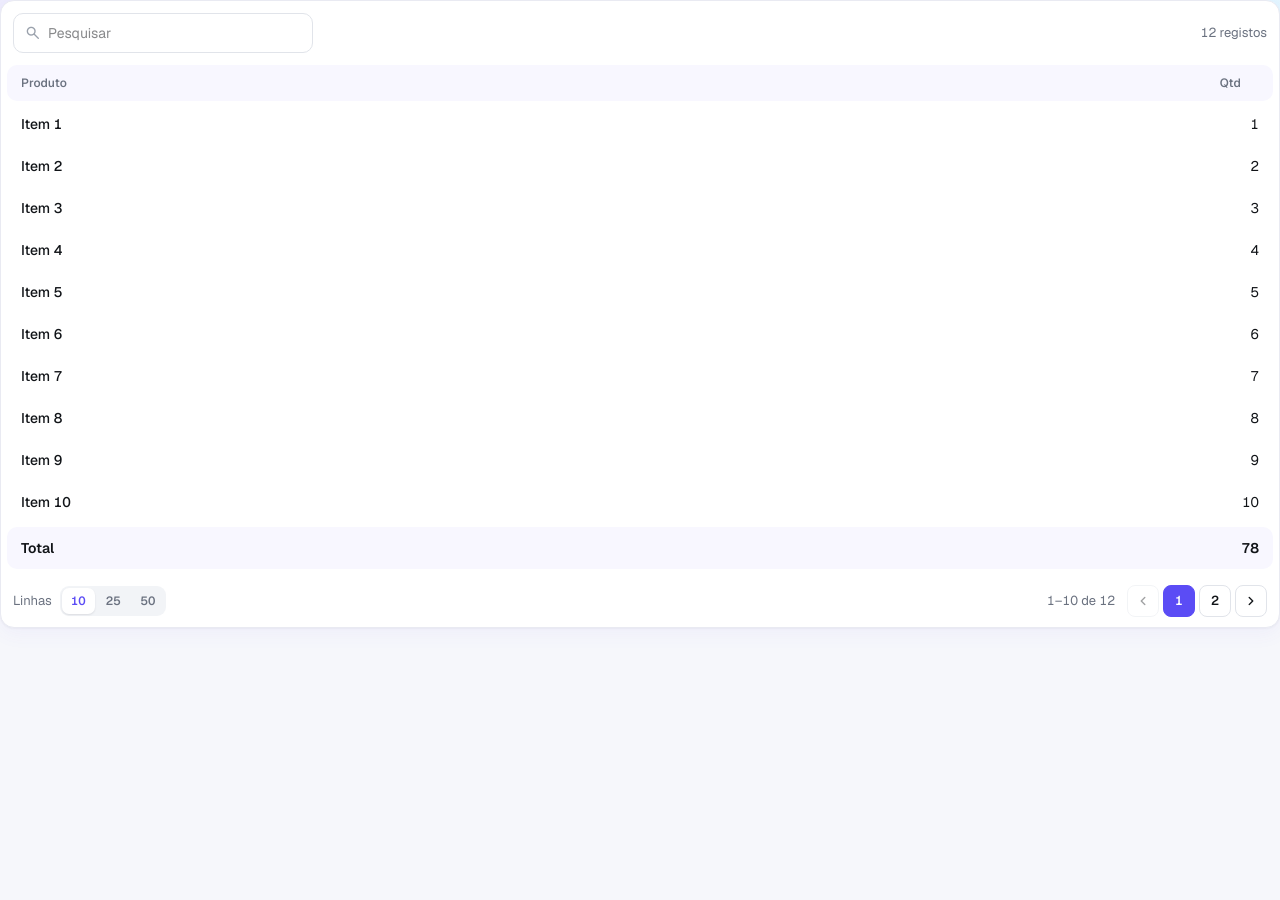
DataTable › searches and reports the count
This screenshot has width=1280, height=900.
Type "Item 1" into the search field at (175,33), box [48,14,302,52]
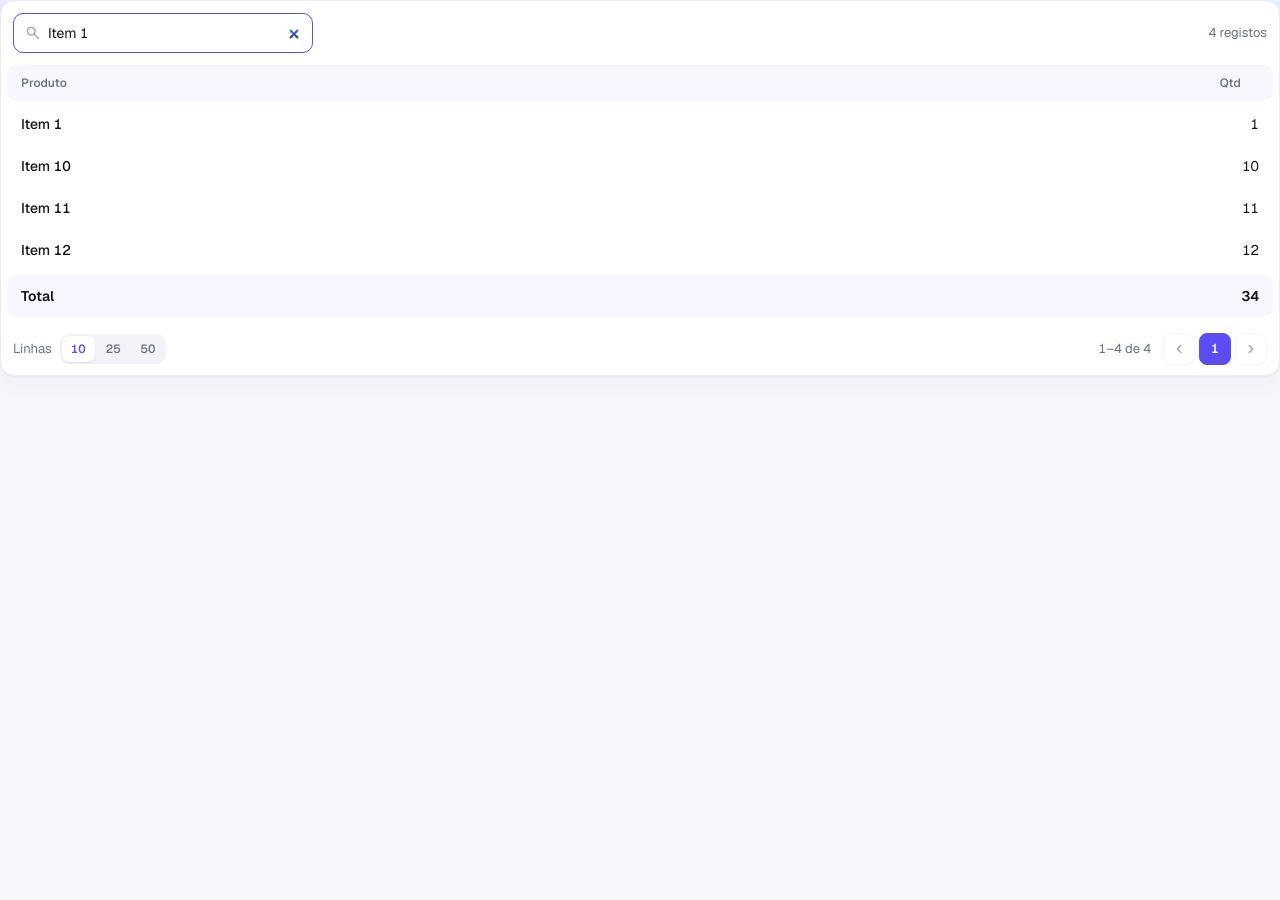
Expected: the text "4 registos" is shown, [1208,23,1267,43]
